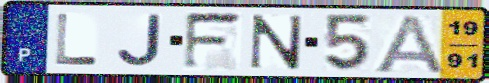5: (323, 12, 374, 74)
A: (369, 13, 448, 75)
F: (180, 10, 246, 72)
J: (114, 12, 165, 68)
L: (53, 12, 101, 67)
N: (247, 12, 306, 70)
